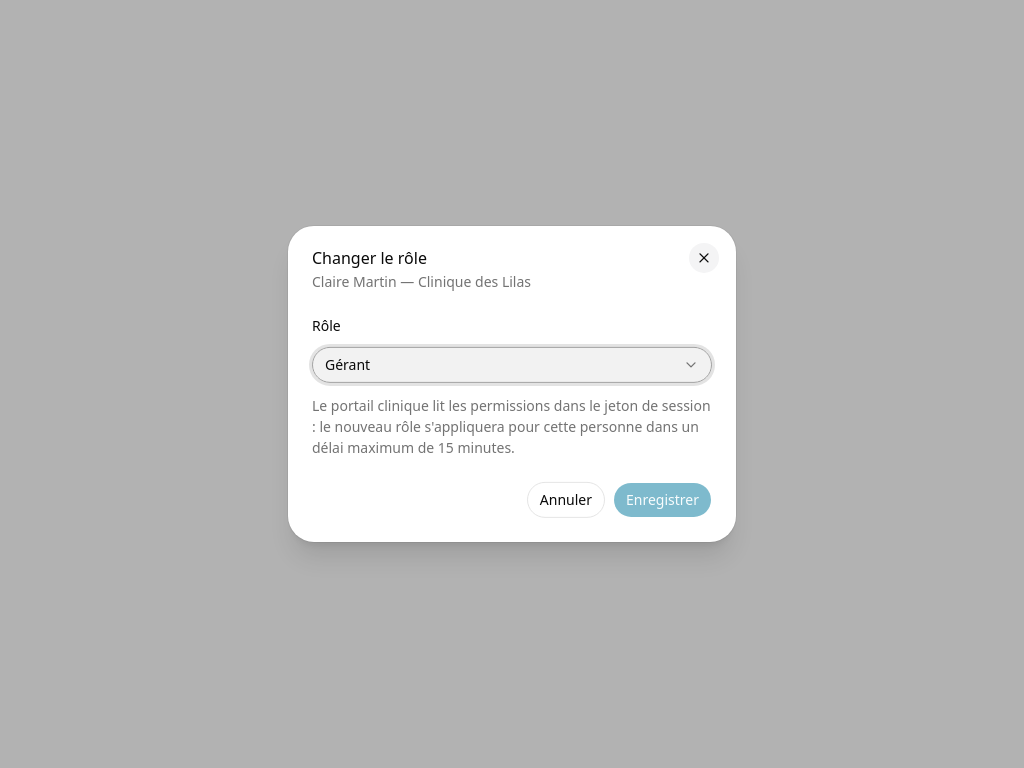
StaffRoleDialog › garde le bouton inerte tant que le rôle n'a pas changé
Expected: the button "Enregistrer" is disabled, x1=613 y1=482 x2=712 y2=518
Step 1. Click the dropdown → click(348, 365), box x1=312 y1=347 x2=712 y2=383
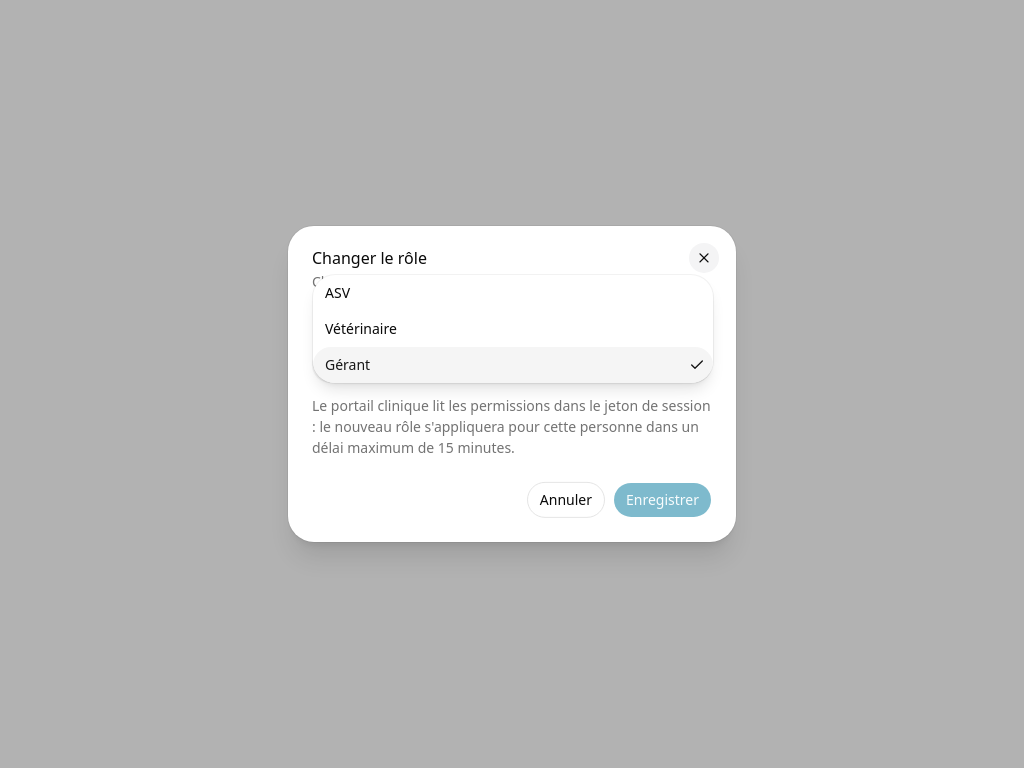
Step 2. Click the option "ASV" → click(338, 293), box x1=325 y1=283 x2=350 y2=302
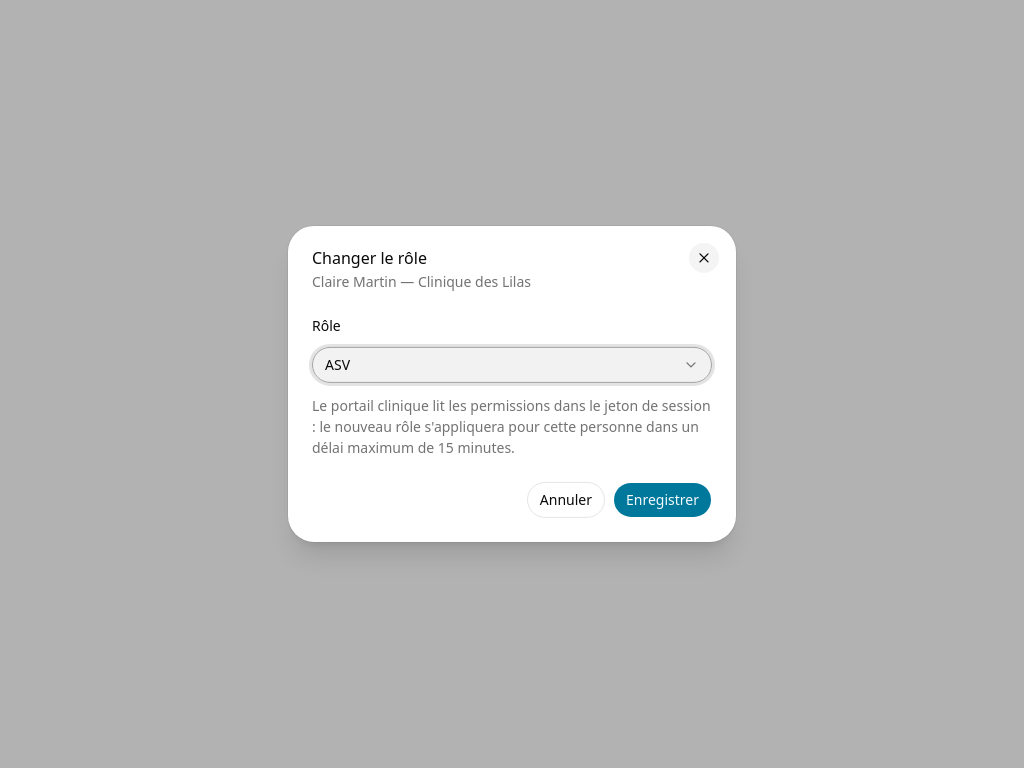
Result: the button "Enregistrer" is enabled at x1=613 y1=482 x2=712 y2=518
